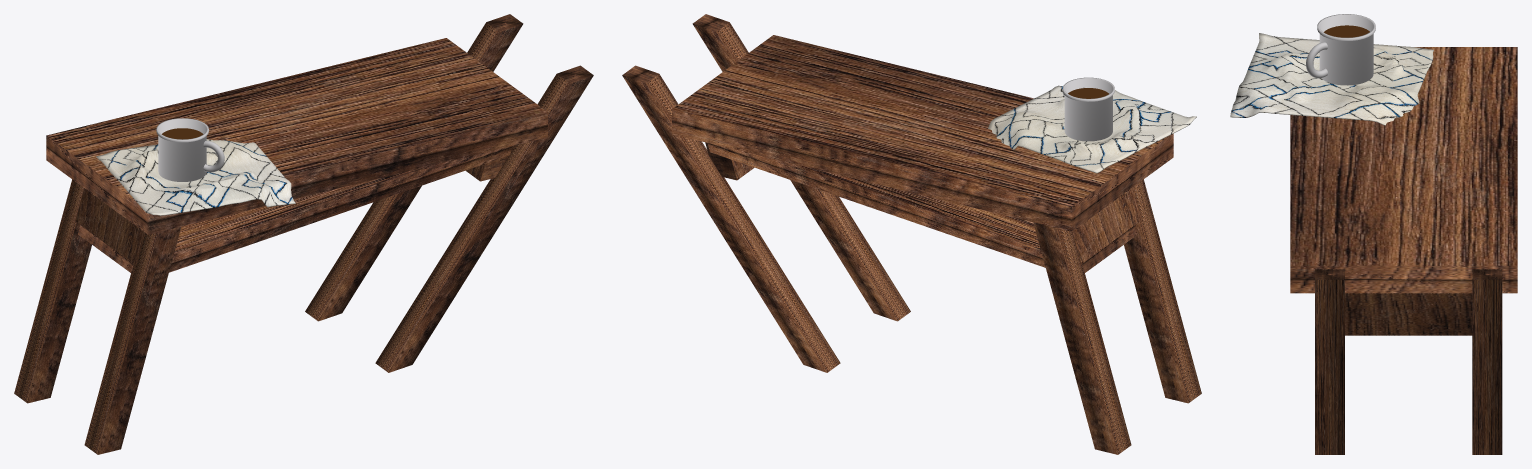
The model's file is desk.gltf.
3 views of the same model, side by side, from view 1: azimuth 30°, elevation 25°; view 2: azimuth 150°, elevation 25°; view 3: azimuth 270°, elevation 25° (orthographic). The views are drawn at different scales.
Parts seen in each view (by area): view 1: Cube, Cube.001, Cube.007, Plane.007, Cube.002, Cube.005, Cube.004, Cylinder.004, Cube.006; view 2: Cube, Cube.004, Cube.007, Cube.005, Plane.007, Cube.002, Cube.001, Cylinder.004, Cube.006, Cube.003; view 3: Cube, Plane.007, Cube.004, Cube.001, Cube.003, Cylinder.004, Cylinder.005, Torus.
Part boxes in pixels (x1,y1,x2,y2): Cube: (46,38,547,234); Cube.001: (375,65,593,372); Cube.007: (78,146,512,272); Plane.007: (96,139,295,215); Cube.002: (84,227,181,454); Cube.005: (14,179,91,403); Cube.004: (305,14,523,321); Cylinder.004: (156,118,208,181); Cube.006: (75,188,144,264); Cube: (672,35,1173,231); Cube.004: (622,65,840,372); Cube.007: (707,143,1137,272); Cube.005: (1033,222,1131,454); Plane.007: (988,85,1196,173); Cube.002: (1124,179,1201,403); Cube.001: (692,14,910,321); Cylinder.004: (1062,77,1114,141); Cube.006: (1072,187,1141,264); Cube.003: (705,142,754,180); Cube: (1290,47,1517,293); Plane.007: (1230,33,1433,125); Cube.004: (1472,269,1502,454); Cube.001: (1315,269,1344,454); Cube.003: (1345,293,1472,335); Cylinder.004: (1317,14,1375,85); Cylinder.005: (1324,25,1369,37); Torus: (1306,42,1327,78).
Bounding box in the file's own units: 7.87 × 4.42 × 3.53.
Materials: 4 (2 with a texture image).
